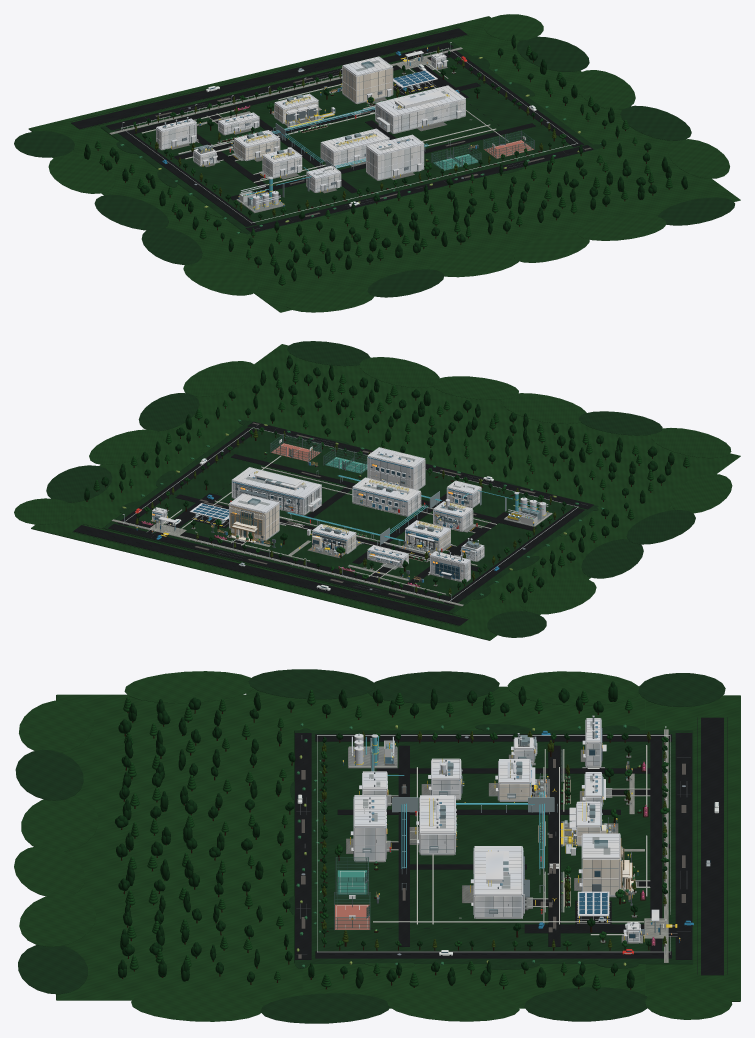
File: factory-campus-graybox.glb
The picture shows the model from 3 angles, top to bottom: view 1: azimuth 30°, elevation 25°; view 2: azimuth 150°, elevation 25°; view 3: azimuth 270°, elevation 25°; orthographic projection. The views are drawn at different scales.
Visible parts, largest first — view 1: ENV__forest-backdrop, SITE__ground, ENV__landscape-apron, ENV__forest-side-east, ENV__forest-side-west, SITE__outer-boulevard, ROAD__perimeter-rear, HORIZON__scrub-island-10, HORIZON__forest-floor-island-03, HORIZON__forest-floor-island-12, HORIZON__forest-floor-island-07, HORIZON__meadow-island-09 (+22 smaller); view 2: ENV__forest-backdrop, SITE__ground, ENV__landscape-apron, ENV__forest-side-east, ENV__forest-side-west, SITE__outer-boulevard, ROAD__perimeter-front, HORIZON__scrub-island-10, HORIZON__forest-floor-island-12, HORIZON__forest-floor-island-03, HORIZON__meadow-island-09, HORIZON__forest-floor-island-07 (+23 smaller); view 3: ENV__forest-backdrop, SITE__ground, ENV__landscape-apron, ENV__forest-side-west, ENV__forest-side-east, SITE__outer-boulevard, ROAD__perimeter-front, ROAD__perimeter-rear, HORIZON__meadow-island-15, HORIZON__scrub-island-14, HORIZON__forest-floor-island-12, HORIZON__forest-floor-island-03 (+30 smaller).
Part boxes in pixels (bbox=[...]): ENV__forest-backdrop: bbox=[198, 135, 740, 312]; SITE__ground: bbox=[100, 41, 598, 234]; ENV__landscape-apron: bbox=[28, 16, 519, 151]; ENV__forest-side-east: bbox=[470, 43, 674, 146]; ENV__forest-side-west: bbox=[52, 140, 241, 260]; SITE__outer-boulevard: bbox=[71, 28, 467, 129]; ROAD__perimeter-rear: bbox=[246, 145, 593, 232]; HORIZON__scrub-island-10: bbox=[48, 154, 115, 193]; HORIZON__forest-floor-island-03: bbox=[428, 249, 518, 277]; HORIZON__forest-floor-island-12: bbox=[667, 139, 729, 178]; HORIZON__forest-floor-island-07: bbox=[183, 260, 258, 295]; HORIZON__meadow-island-09: bbox=[94, 194, 168, 230]; ENV__forest-backdrop: bbox=[198, 344, 740, 519]; SITE__ground: bbox=[103, 420, 598, 613]; ENV__landscape-apron: bbox=[31, 503, 511, 640]; ENV__forest-side-east: bbox=[69, 396, 242, 515]; ENV__forest-side-west: bbox=[471, 507, 675, 614]; SITE__outer-boulevard: bbox=[73, 525, 468, 625]; ROAD__perimeter-front: bbox=[108, 524, 454, 611]; HORIZON__scrub-island-10: bbox=[520, 578, 596, 614]; HORIZON__forest-floor-island-12: bbox=[183, 361, 257, 396]; HORIZON__forest-floor-island-03: bbox=[501, 393, 586, 424]; HORIZON__meadow-island-09: bbox=[581, 539, 643, 578]; HORIZON__forest-floor-island-07: bbox=[670, 474, 732, 513]; ENV__forest-backdrop: bbox=[56, 694, 302, 1000]; SITE__ground: bbox=[294, 730, 693, 964]; ENV__landscape-apron: bbox=[645, 695, 740, 1001]; ENV__forest-side-west: bbox=[246, 686, 645, 730]; ENV__forest-side-east: bbox=[255, 964, 645, 1008]; SITE__outer-boulevard: bbox=[701, 717, 723, 975]; ROAD__perimeter-front: bbox=[675, 733, 692, 959]; ROAD__perimeter-rear: bbox=[295, 733, 311, 959]; HORIZON__meadow-island-15: bbox=[524, 987, 647, 1021]; HORIZON__scrub-island-14: bbox=[387, 989, 519, 1021]; HORIZON__forest-floor-island-12: bbox=[131, 989, 262, 1021]; HORIZON__forest-floor-island-03: bbox=[21, 796, 98, 851].
Size of the model in its own units: 125 by 7.36 by 108.
94 materials, 27 textured.
